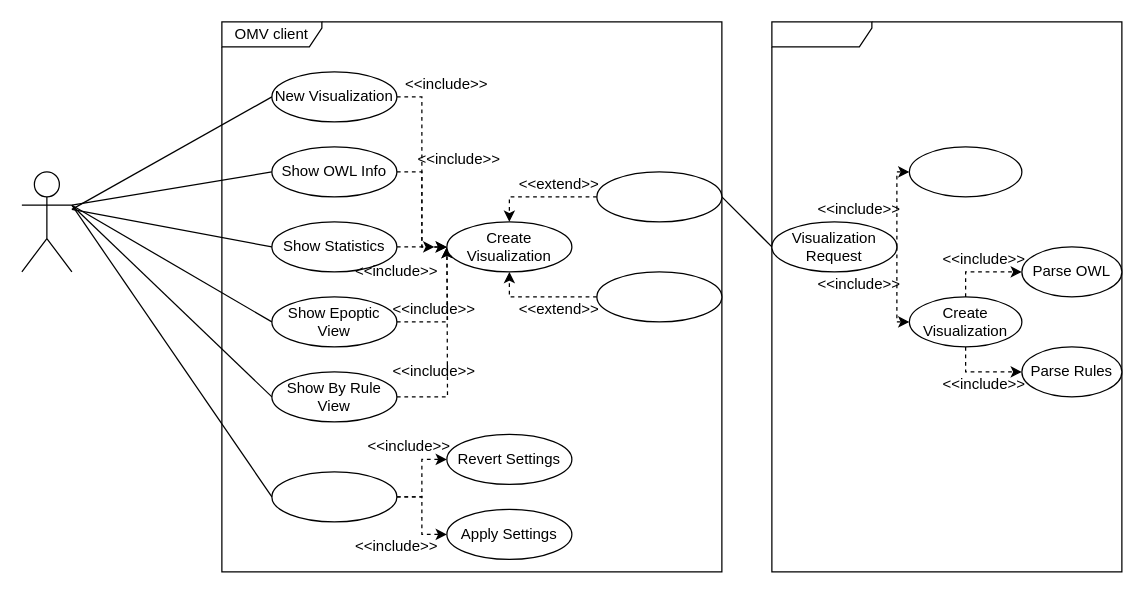
Some shapes in this 1144 by 594 pixel diagram are drawn without their labels. The shapes that lost their labels are listed below. From the top down, each one's box as (x1, y1, x2, y2) in pixels, then its label:
(908, 146, 1022, 197): Validate Input
(596, 171, 722, 222): Get from server
(21, 171, 72, 272): User
(596, 271, 722, 322): Get from memory
(771, 21, 1122, 572): OMV server
(271, 471, 397, 522): Change Settings
